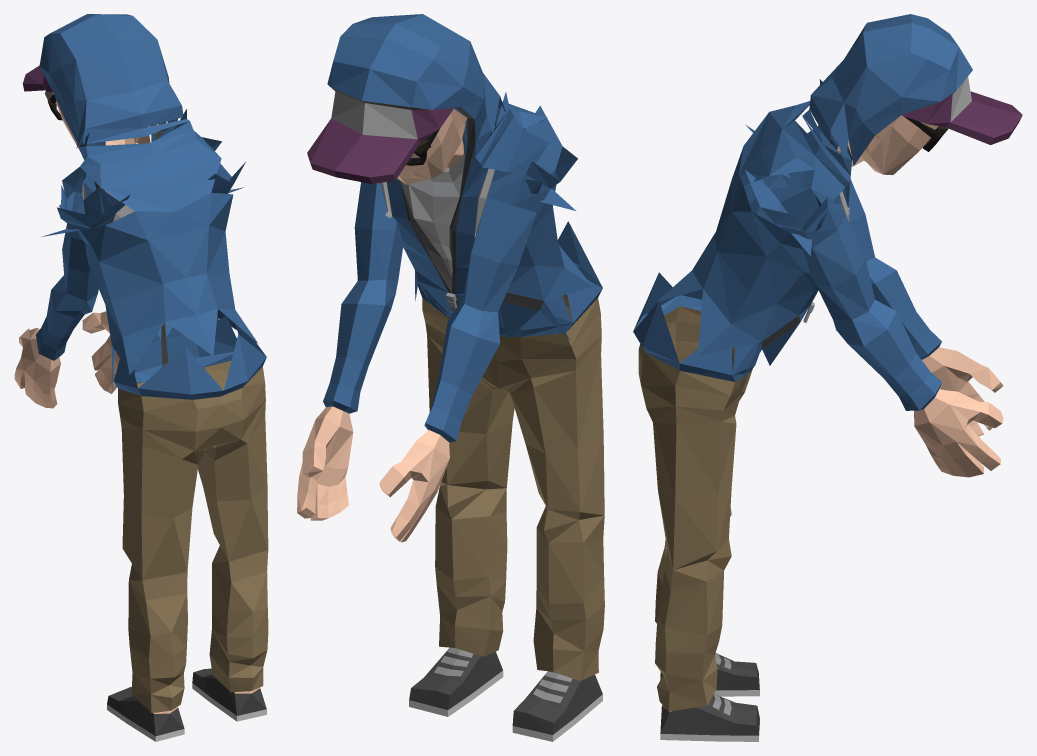
File: Medic_paddles.obj
3 renders of one model, left to right at view 1: azimuth 30°, elevation 25°; view 2: azimuth 150°, elevation 25°; view 3: azimuth 270°, elevation 25°, orthographic. The views are drawn at different scales.
Visible parts, largest first — view 1: Medic_paddles; view 2: Medic_paddles; view 3: Medic_paddles.
Part boxes in pixels (x1=…): Medic_paddles: x1=14, y1=14, x2=268, y2=741; Medic_paddles: x1=297, y1=14, x2=604, y2=741; Medic_paddles: x1=633, y1=14, x2=1022, y2=741.
Bounding box in the file's own units: 0.5821 × 1.7 × 0.8752.
Materials: 1 (1 with a texture image).
